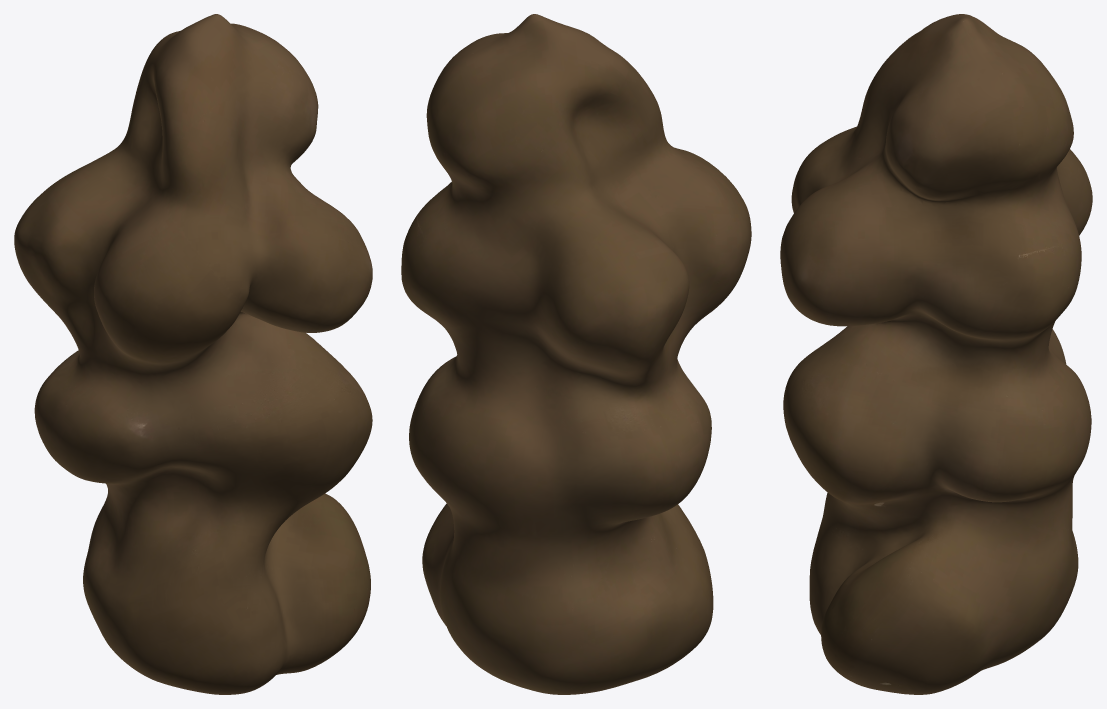
Rendered from skulptur-3.glb.
The picture shows the model from 3 angles, left to right: view 1: azimuth 30°, elevation 25°; view 2: azimuth 150°, elevation 25°; view 3: azimuth 270°, elevation 25°; orthographic projection. The views are drawn at different scales.
Bounding box in the file's own units: 0.8701 × 1.9 × 0.833.
1 material, 1 textured.
